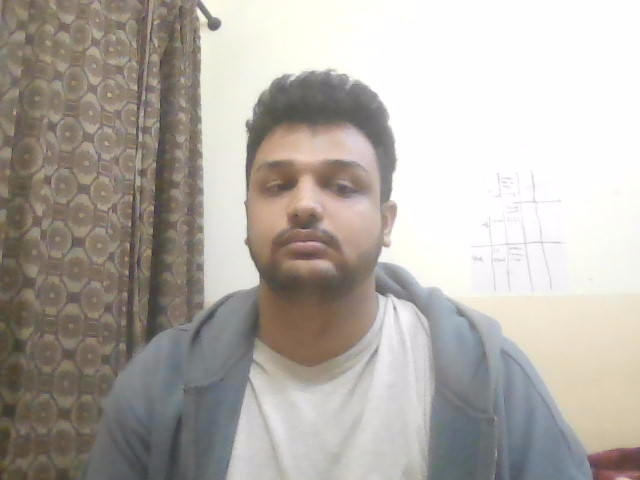awake: (184, 51, 496, 347)
